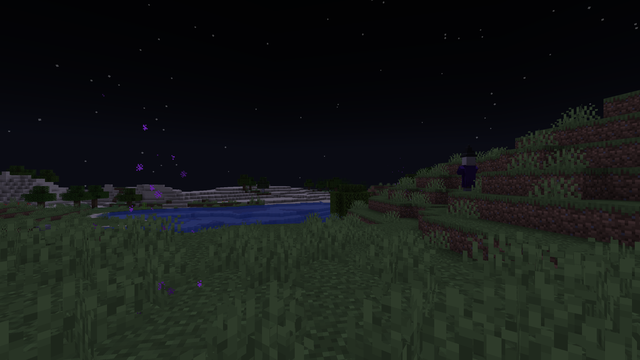sorcieres: (459, 155, 476, 191)
